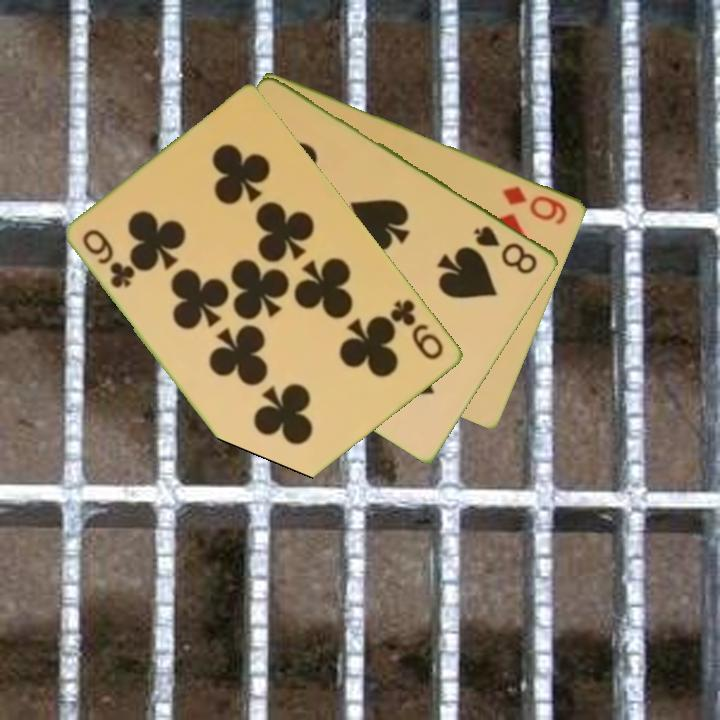6d: (499, 182, 571, 228)
8s: (470, 222, 541, 278)
9c: (387, 296, 447, 364), (79, 225, 138, 292)
